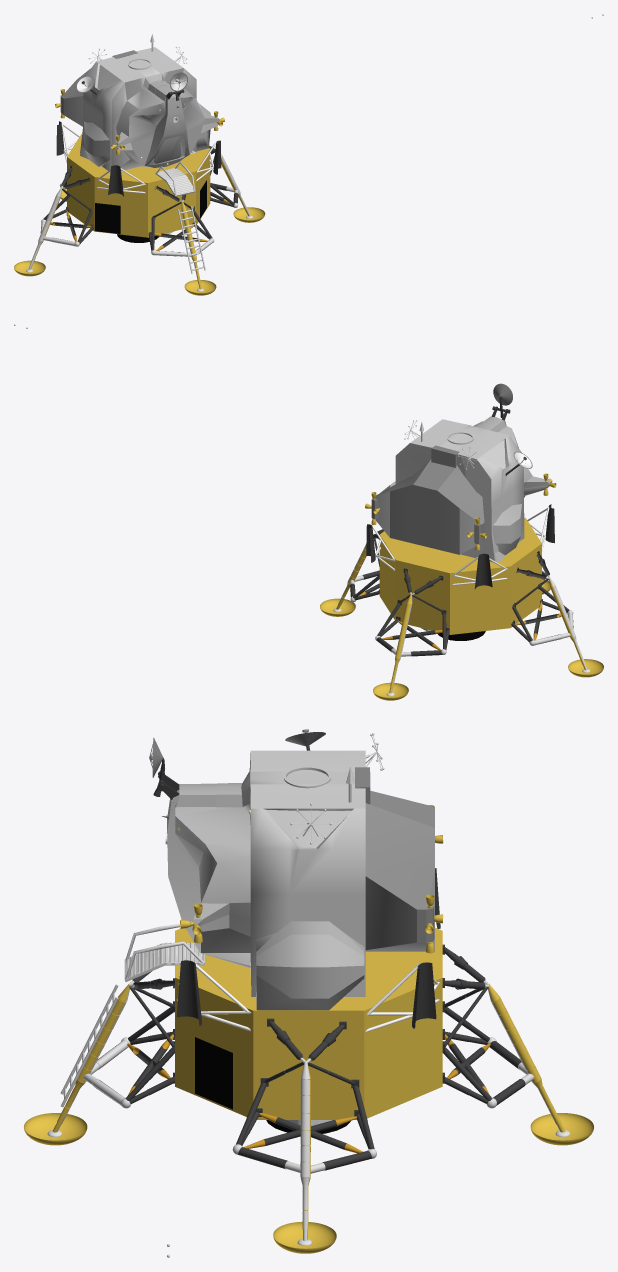
3 views of the same model, one above another, from view 1: azimuth 30°, elevation 25°; view 2: azimuth 150°, elevation 25°; view 3: azimuth 270°, elevation 25° (orthographic). The views are drawn at different scales.
Parts seen in each view (by area): view 1: polySurfac, pCylinder1, group31 19, pCylinde10, group31 15, pCube2, pPlane1, group31 16, pCube3, polySurfa1, pCube27, group31 g6; view 2: pCylinder1, polySurfac, pCube2, group31 19, pCylinde10, group31 15, group31 16; view 3: polySurfac, pCylinder1, pCube2, pCylinder9, group31 19, group31 15, group31 16, pPlane2, pCube3, group31 g7, group31 g8, group31 g6 (+10 smaller).
Boxes of the visible parts, x1,y1,x2,y2 form: polySurfac: (80, 47, 219, 172); pCylinder1: (67, 134, 210, 237); group31 19: (14, 188, 265, 295); pCylinde10: (80, 121, 110, 166); group31 15: (28, 154, 250, 288); pCube2: (61, 50, 137, 126); pPlane1: (95, 203, 120, 233); group31 16: (31, 155, 248, 289); pCube3: (155, 168, 195, 196); polySurfa1: (177, 206, 205, 273); pCube27: (153, 136, 181, 163); group31 g6: (43, 190, 238, 256); pCylinder1: (379, 517, 541, 634); polySurfac: (395, 416, 550, 562); pCube2: (375, 445, 484, 554); group31 19: (320, 579, 603, 700); pCylinde10: (492, 504, 522, 562); group31 15: (336, 534, 587, 692); group31 16: (337, 546, 585, 693); polySurfac: (167, 750, 365, 996); pCylinder1: (175, 928, 442, 1119); pCube2: (355, 767, 434, 951); pCylinder9: (256, 921, 364, 1010); group31 19: (24, 1113, 593, 1253); group31 15: (52, 984, 565, 1240); group31 16: (53, 987, 564, 1239); pPlane2: (195, 1037, 232, 1109); pCube3: (124, 942, 204, 981); group31 g7: (83, 1073, 534, 1173); group31 g8: (128, 1034, 489, 1153); group31 g6: (90, 1041, 527, 1172).
Bounding box in the file's own units: 0.3659 × 0.1273 × 0.1632.
